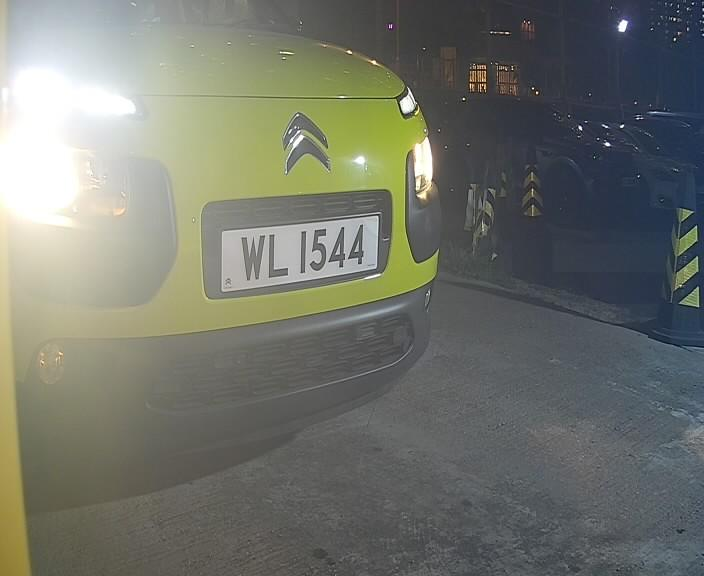Car: (10, 16, 551, 430)
License Plate: (208, 206, 384, 296)
